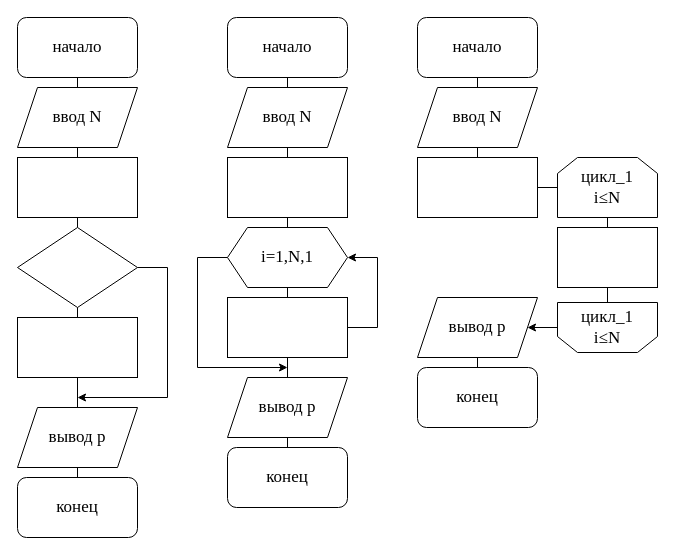
This 675x555 diagram has some shape labels left out. The centre of each missing label's shape, as x and y in pixels:
i ≤ N ?: the point at 77,267
p ← p * i ;: the point at 287,327
p ← p * i ; i ← i +1: the point at 77,347
p ← p * i ; i ← i +1;: the point at 607,257
p ←1: the point at 287,187
p ←1; i ← 1: the point at 77,187
p ←1; i ← 1;: the point at 477,187
